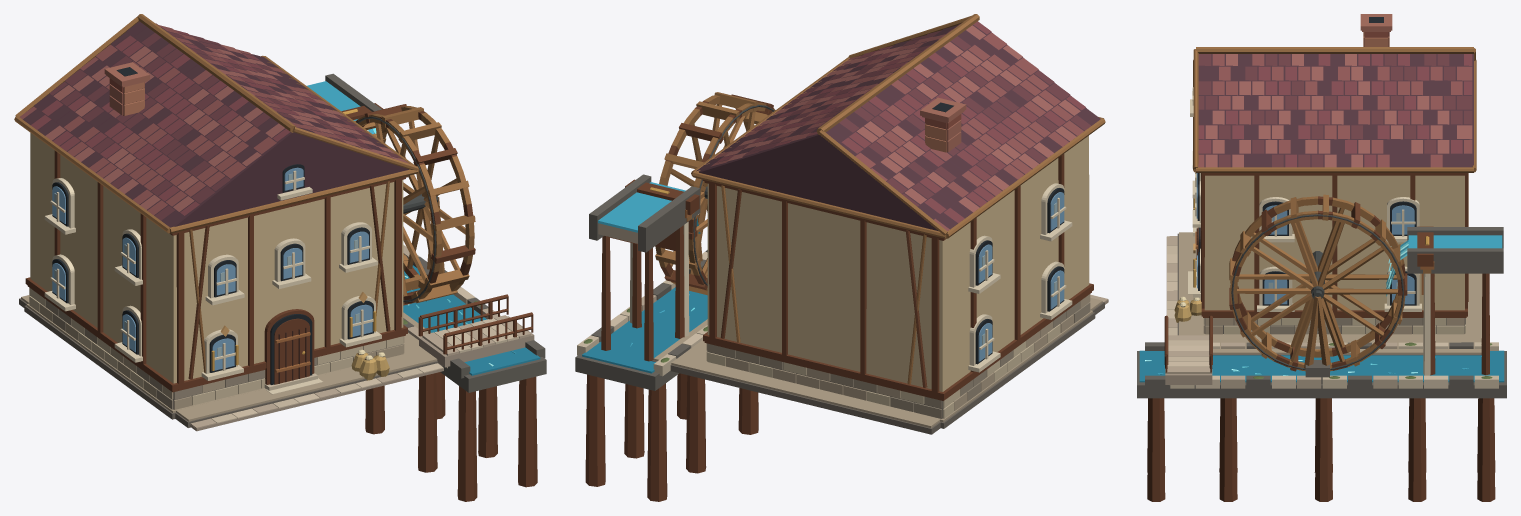
The model's file is watermill-nivel-6.glb.
3 views of the same model, side by side, from view 1: azimuth 30°, elevation 25°; view 2: azimuth 150°, elevation 25°; view 3: azimuth 270°, elevation 25° (orthographic). The views are drawn at different scales.
Visible parts, largest first — view 1: Moinho 06 #d3bb92, Moinho 06 #70432c, Moinho 06 #593b44, Moinho 06 #e6d7ba, Moinho 06 #8f5655, Moinho 06 #9f7145, Aros e pás 1 #9f7145.005, Moinho 06 #824a50, Moinho 06 #70444a, Moinho 06 #9e645f, Moinho 06 #b4a38a, Moinho 06 #567185 (+16 smaller); view 2: Moinho 06 #d3bb92, Moinho 06 #70432c, Moinho 06 #593b44, Moinho 06 #8f5655, Moinho 06 #9f7145, Moinho 06 #b4a38a, Moinho 06 #9e645f, Moinho 06 #70444a, Moinho 06 #824a50, Moinho 06 #6a665e, Aros e pás 1 #9f7145.005, Moinho 06 #e6d7ba (+11 smaller); view 3: Moinho 06 #d3bb92, Moinho 06 #70432c, Moinho 06 #593b44, Aros e pás 1 #9f7145.005, Moinho 06 #6a665e, Moinho 06 #9e645f, Moinho 06 #9f7145, Moinho 06 #70444a, Moinho 06 #b4a38a, Moinho 06 #8f5655, Moinho 06 #256477, Moinho 06 #824a50 (+15 smaller).
Boxes of the visible parts, bbox=[...] form: Moinho 06 #d3bb92: bbox=[30, 133, 403, 383]; Moinho 06 #70432c: bbox=[25, 103, 537, 501]; Moinho 06 #593b44: bbox=[23, 21, 409, 227]; Moinho 06 #e6d7ba: bbox=[44, 170, 381, 394]; Moinho 06 #8f5655: bbox=[19, 25, 354, 215]; Moinho 06 #9f7145: bbox=[14, 14, 444, 372]; Aros e pás 1 #9f7145.005: bbox=[355, 106, 475, 303]; Moinho 06 #824a50: bbox=[31, 23, 394, 215]; Moinho 06 #70444a: bbox=[49, 31, 402, 220]; Moinho 06 #9e645f: bbox=[45, 44, 409, 211]; Moinho 06 #b4a38a: bbox=[21, 295, 437, 421]; Moinho 06 #567185: bbox=[52, 167, 372, 370]; Moinho 06 #d3bb92: bbox=[707, 135, 1089, 391]; Moinho 06 #70432c: bbox=[585, 154, 1093, 501]; Moinho 06 #593b44: bbox=[696, 25, 1100, 230]; Moinho 06 #8f5655: bbox=[711, 29, 1083, 231]; Moinho 06 #9f7145: bbox=[686, 14, 1105, 384]; Moinho 06 #b4a38a: bbox=[653, 294, 1102, 427]; Moinho 06 #9e645f: bbox=[724, 25, 1080, 212]; Moinho 06 #70444a: bbox=[731, 23, 1091, 206]; Moinho 06 #824a50: bbox=[716, 21, 1085, 223]; Moinho 06 #6a665e: bbox=[575, 174, 707, 390]; Aros e pás 1 #9f7145.005: bbox=[655, 92, 775, 295]; Moinho 06 #e6d7ba: bbox=[630, 183, 1072, 372]; Moinho 06 #d3bb92: bbox=[1204, 175, 1464, 310]; Moinho 06 #70432c: bbox=[1147, 173, 1495, 501]; Moinho 06 #593b44: bbox=[1198, 54, 1473, 167]; Aros e pás 1 #9f7145.005: bbox=[1229, 194, 1405, 371]; Moinho 06 #6a665e: bbox=[1137, 227, 1506, 398]; Moinho 06 #9e645f: bbox=[1205, 54, 1472, 167]; Moinho 06 #9f7145: bbox=[1193, 47, 1476, 368]; Moinho 06 #70444a: bbox=[1198, 54, 1472, 167]; Moinho 06 #b4a38a: bbox=[1179, 232, 1482, 354]; Moinho 06 #8f5655: bbox=[1198, 54, 1472, 167]; Moinho 06 #256477: bbox=[1139, 350, 1504, 382]; Moinho 06 #824a50: bbox=[1198, 54, 1472, 167].
Bounding box in the file's own units: 9.71 × 10.4 × 9.77.
